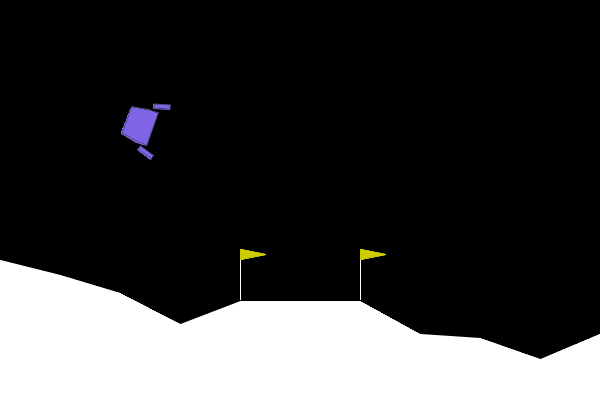lander: (114, 91, 172, 161)
